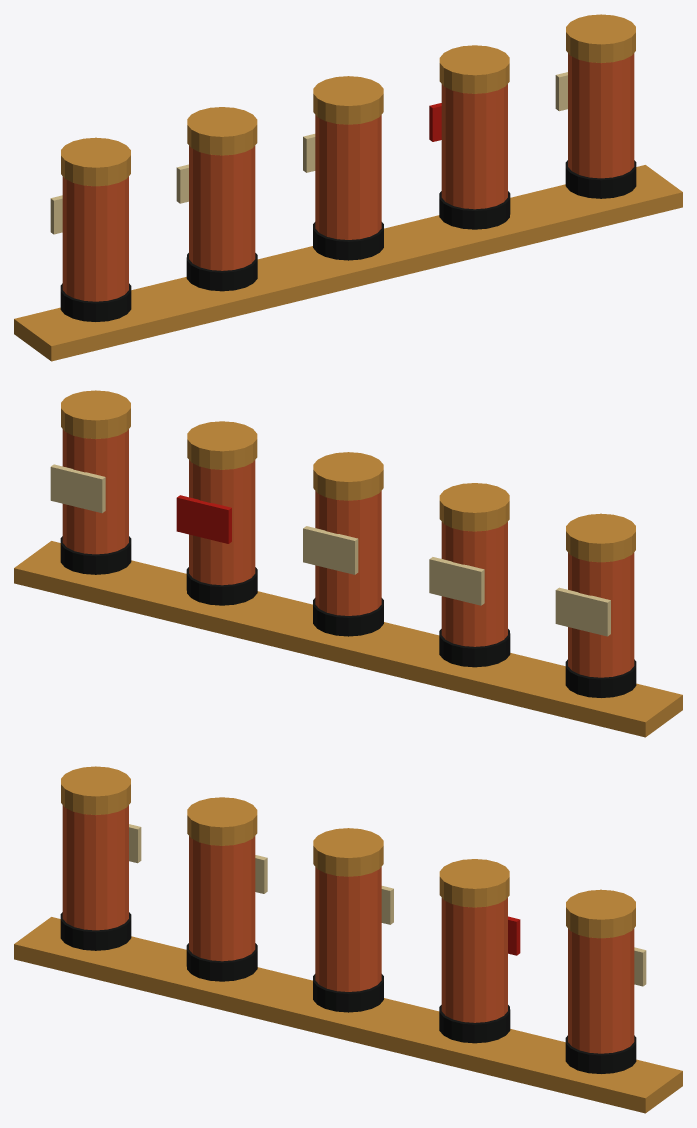
Rendered from V0135WA_003_PressureCartridgeFamily.obj.
3 renders of one model, top to bottom at view 1: azimuth 30°, elevation 25°; view 2: azimuth 150°, elevation 25°; view 3: azimuth 330°, elevation 25°, orthographic.
Parts seen in each view (by area): view 1: small_rack_brass_rail, high_pressure_redband_cell_copper_body, display_cutaway_cell_copper_body, pistol_short_cell_copper_body, scattergun_slug_canister_copper_body, ruptured_empty_cell_copper_body, ruptured_empty_cell_brass_cap_top, high_pressure_redband_cell_brass_cap_top, scattergun_slug_canister_brass_cap_top, display_cutaway_cell_brass_cap_top, pistol_short_cell_brass_cap_top, display_cutaway_cell_blackened_base (+4 smaller); view 2: small_rack_brass_rail, high_pressure_redband_cell_copper_body, pistol_short_cell_copper_body, display_cutaway_cell_copper_body, ruptured_empty_cell_copper_body, scattergun_slug_canister_copper_body, ruptured_empty_cell_brass_cap_top, high_pressure_redband_cell_brass_cap_top, scattergun_slug_canister_brass_cap_top, display_cutaway_cell_brass_cap_top, pistol_short_cell_brass_cap_top, pistol_short_cell_label_band (+9 smaller); view 3: small_rack_brass_rail, scattergun_slug_canister_copper_body, pistol_short_cell_copper_body, display_cutaway_cell_copper_body, ruptured_empty_cell_copper_body, high_pressure_redband_cell_copper_body, ruptured_empty_cell_brass_cap_top, scattergun_slug_canister_brass_cap_top, high_pressure_redband_cell_brass_cap_top, pistol_short_cell_brass_cap_top, display_cutaway_cell_brass_cap_top, pistol_short_cell_blackened_base (+4 smaller).
Part boxes in pixels (bbox=[...]): small_rack_brass_rail: bbox=[14, 165, 682, 361]; high_pressure_redband_cell_copper_body: bbox=[441, 84, 507, 209]; display_cutaway_cell_copper_body: bbox=[568, 53, 634, 178]; pistol_short_cell_copper_body: bbox=[62, 176, 128, 301]; scattergun_slug_canister_copper_body: bbox=[189, 146, 255, 270]; ruptured_empty_cell_copper_body: bbox=[315, 115, 381, 239]; ruptured_empty_cell_brass_cap_top: bbox=[313, 76, 383, 124]; high_pressure_redband_cell_brass_cap_top: bbox=[439, 45, 509, 93]; scattergun_slug_canister_brass_cap_top: bbox=[187, 107, 257, 155]; display_cutaway_cell_brass_cap_top: bbox=[566, 14, 635, 62]; pistol_short_cell_brass_cap_top: bbox=[61, 137, 130, 186]; display_cutaway_cell_blackened_base: bbox=[565, 160, 636, 198]; small_rack_brass_rail: bbox=[14, 541, 682, 737]; high_pressure_redband_cell_copper_body: bbox=[189, 460, 255, 585]; pistol_short_cell_copper_body: bbox=[568, 552, 634, 677]; display_cutaway_cell_copper_body: bbox=[62, 429, 128, 554]; ruptured_empty_cell_copper_body: bbox=[315, 491, 381, 615]; scattergun_slug_canister_copper_body: bbox=[441, 522, 507, 646]; ruptured_empty_cell_brass_cap_top: bbox=[313, 452, 383, 500]; high_pressure_redband_cell_brass_cap_top: bbox=[187, 421, 257, 469]; scattergun_slug_canister_brass_cap_top: bbox=[439, 483, 509, 531]; display_cutaway_cell_brass_cap_top: bbox=[61, 390, 130, 438]; pistol_short_cell_brass_cap_top: bbox=[566, 513, 635, 562]; pistol_short_cell_label_band: bbox=[555, 587, 610, 636]; small_rack_brass_rail: bbox=[14, 917, 682, 1113]; scattergun_slug_canister_copper_body: bbox=[189, 836, 255, 961]; pistol_short_cell_copper_body: bbox=[62, 805, 128, 930]; display_cutaway_cell_copper_body: bbox=[568, 928, 634, 1053]; ruptured_empty_cell_copper_body: bbox=[315, 867, 381, 991]; high_pressure_redband_cell_copper_body: bbox=[441, 898, 507, 1022]; ruptured_empty_cell_brass_cap_top: bbox=[313, 828, 383, 876]; scattergun_slug_canister_brass_cap_top: bbox=[187, 797, 257, 845]; high_pressure_redband_cell_brass_cap_top: bbox=[439, 859, 509, 907]; pistol_short_cell_brass_cap_top: bbox=[61, 766, 130, 814]; display_cutaway_cell_brass_cap_top: bbox=[566, 889, 635, 938]; pistol_short_cell_blackened_base: bbox=[60, 912, 131, 950].
Size of the model in its own units: 1.95 by 0.53 by 0.204.
